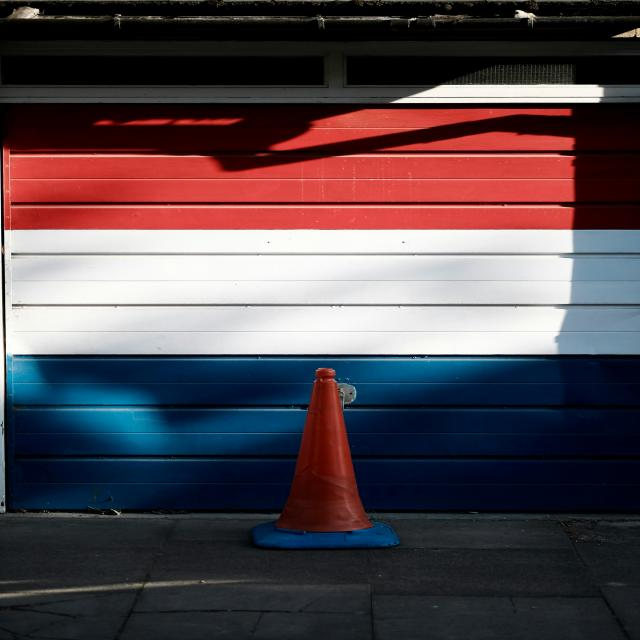Traffic Cone: (158, 319, 530, 599)
